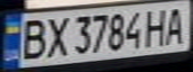3: (69, 11, 93, 55)
4: (124, 8, 148, 50)
7: (90, 11, 109, 53)
8: (106, 10, 127, 52)
A: (160, 3, 190, 45)
B: (15, 16, 48, 61)
H: (142, 6, 172, 47)
X: (42, 14, 72, 58)
